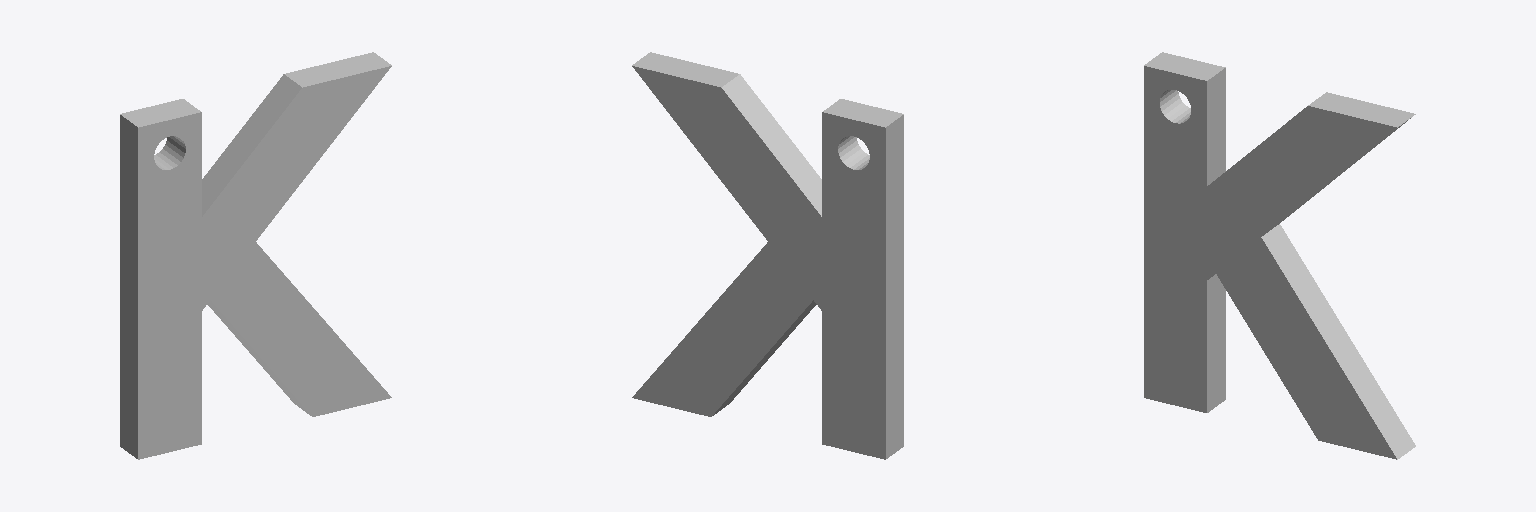
Rendered from Basic Metal Project.obj.
3 views of the same model, side by side, from view 1: azimuth 30°, elevation 25°; view 2: azimuth 150°, elevation 25°; view 3: azimuth 330°, elevation 25° (orthographic).
Visible parts, largest first — view 1: Letter; view 2: Letter; view 3: Letter.
Part boxes in pixels (x1,y1,x2,y2): Letter: (120, 52, 391, 459); Letter: (632, 52, 903, 459); Letter: (1144, 52, 1415, 459).
Size of the model in its own units: 5.08 by 6.35 by 0.6439.